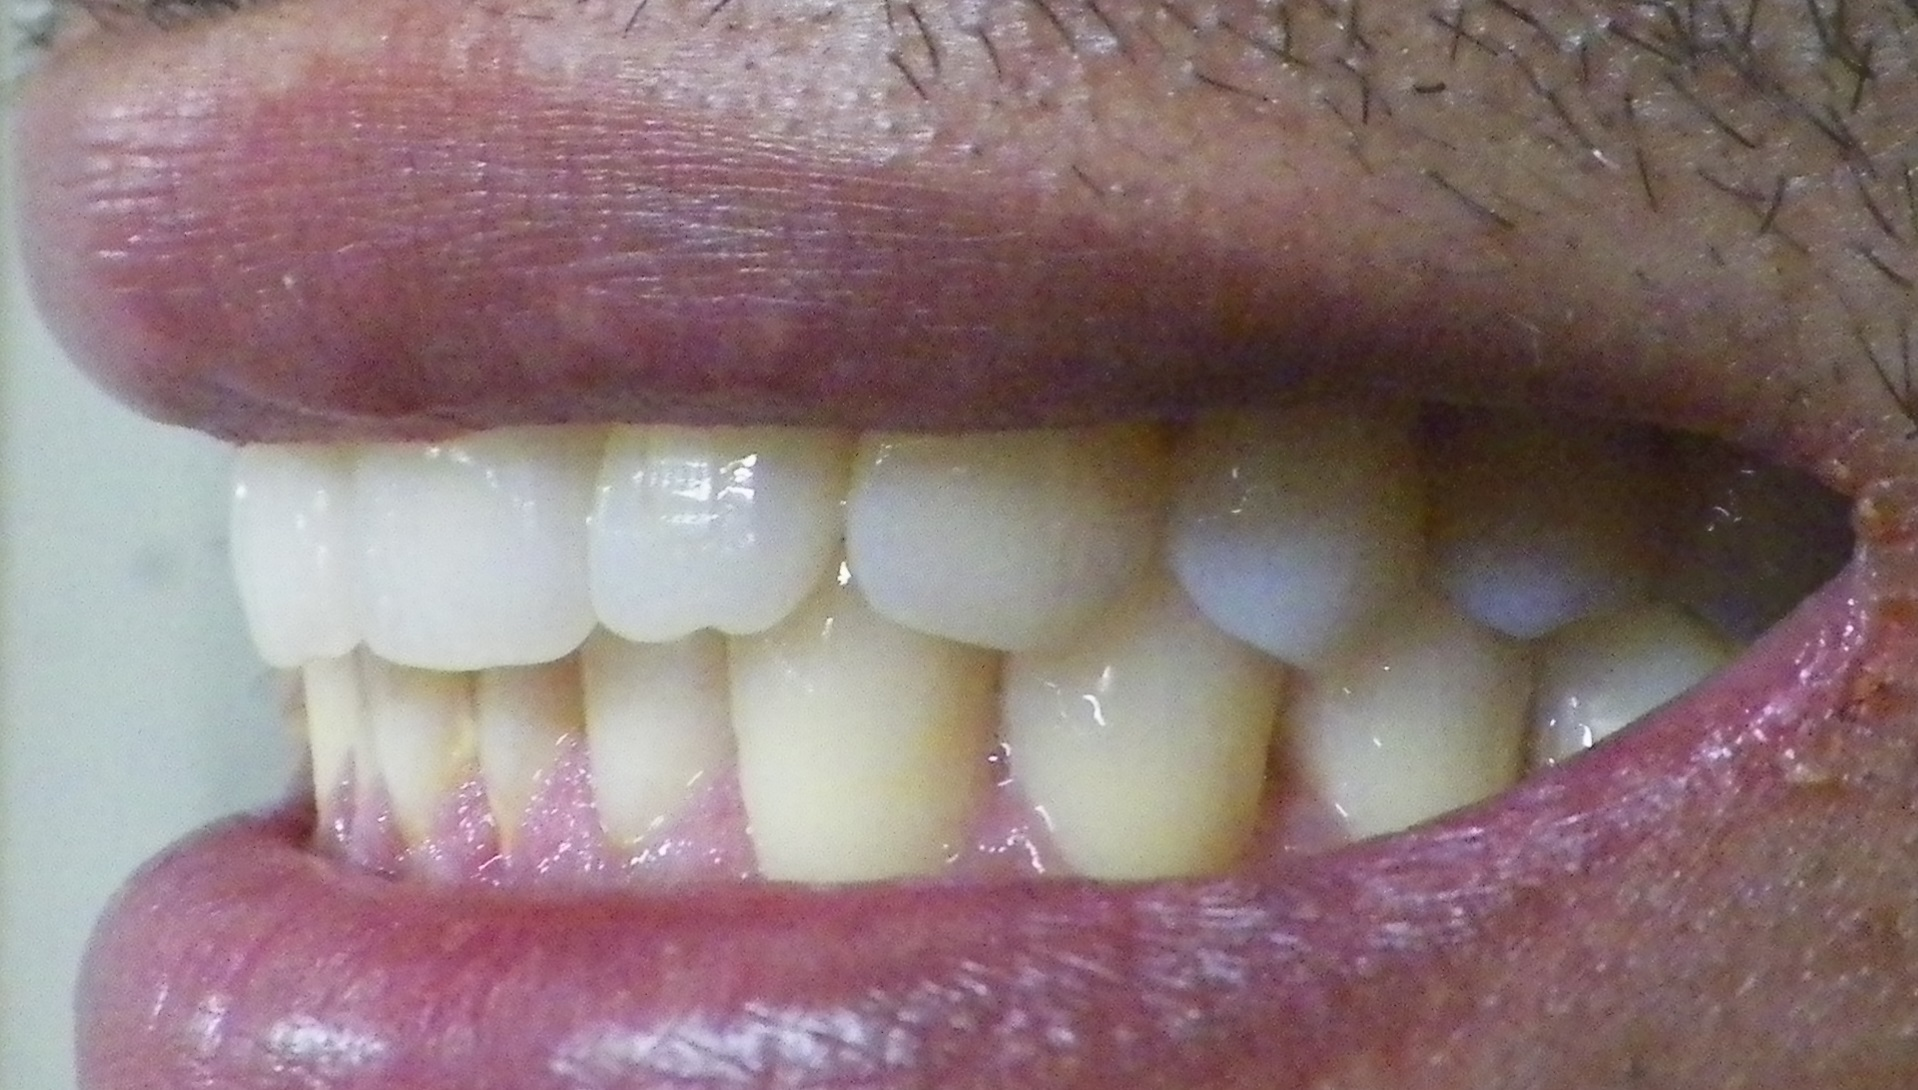boca: (231, 420, 1828, 867)
